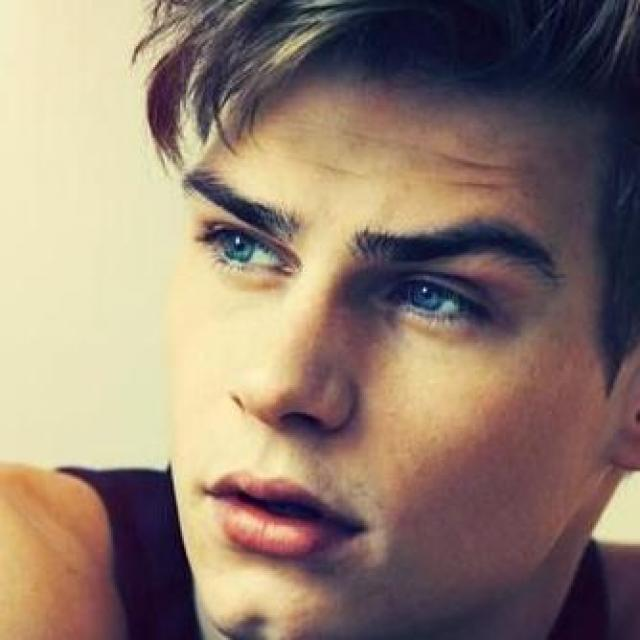surprised: (130, 90, 625, 617)
